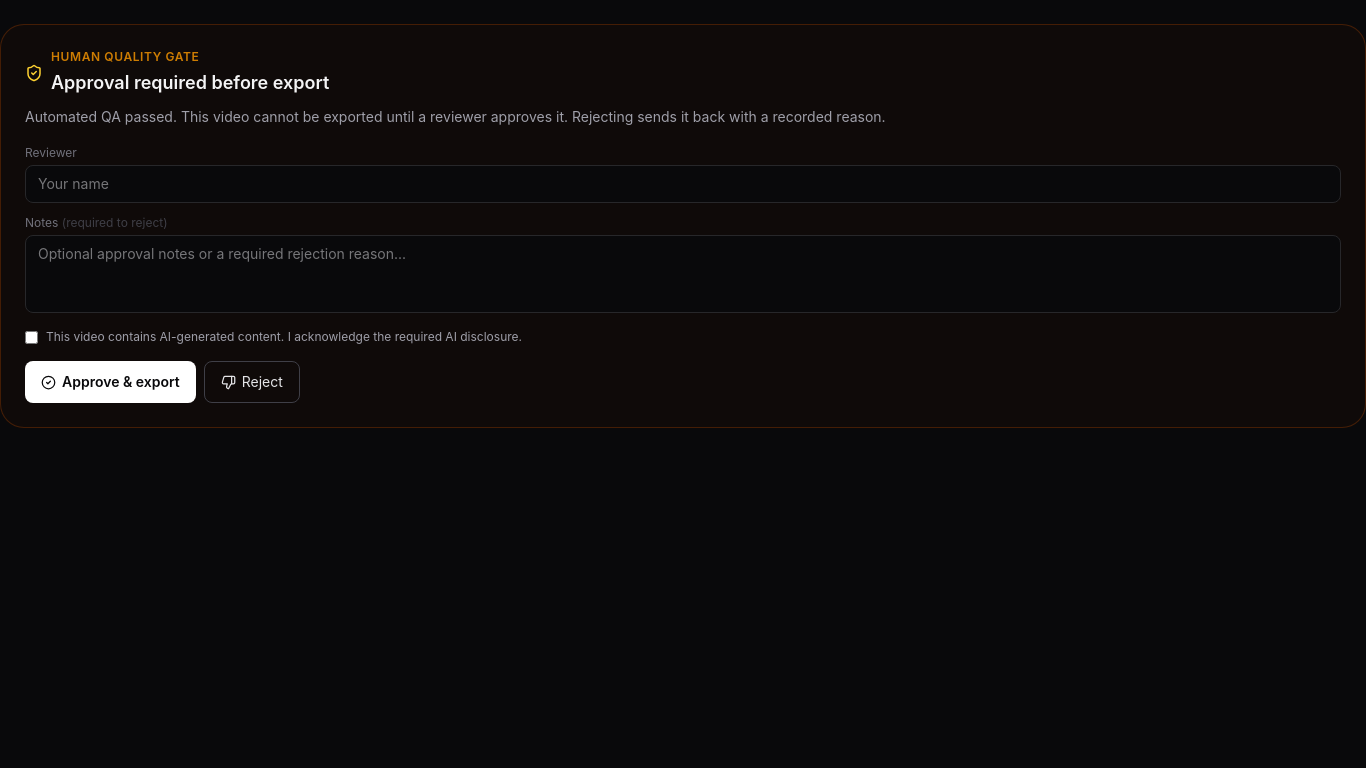
Scenario: ApprovalPanel › requires notes before rejecting
This screenshot has width=1366, height=768.
Type "Alex" into the field with placeholder "Your name" at (683, 184), box [25,165,1341,203]
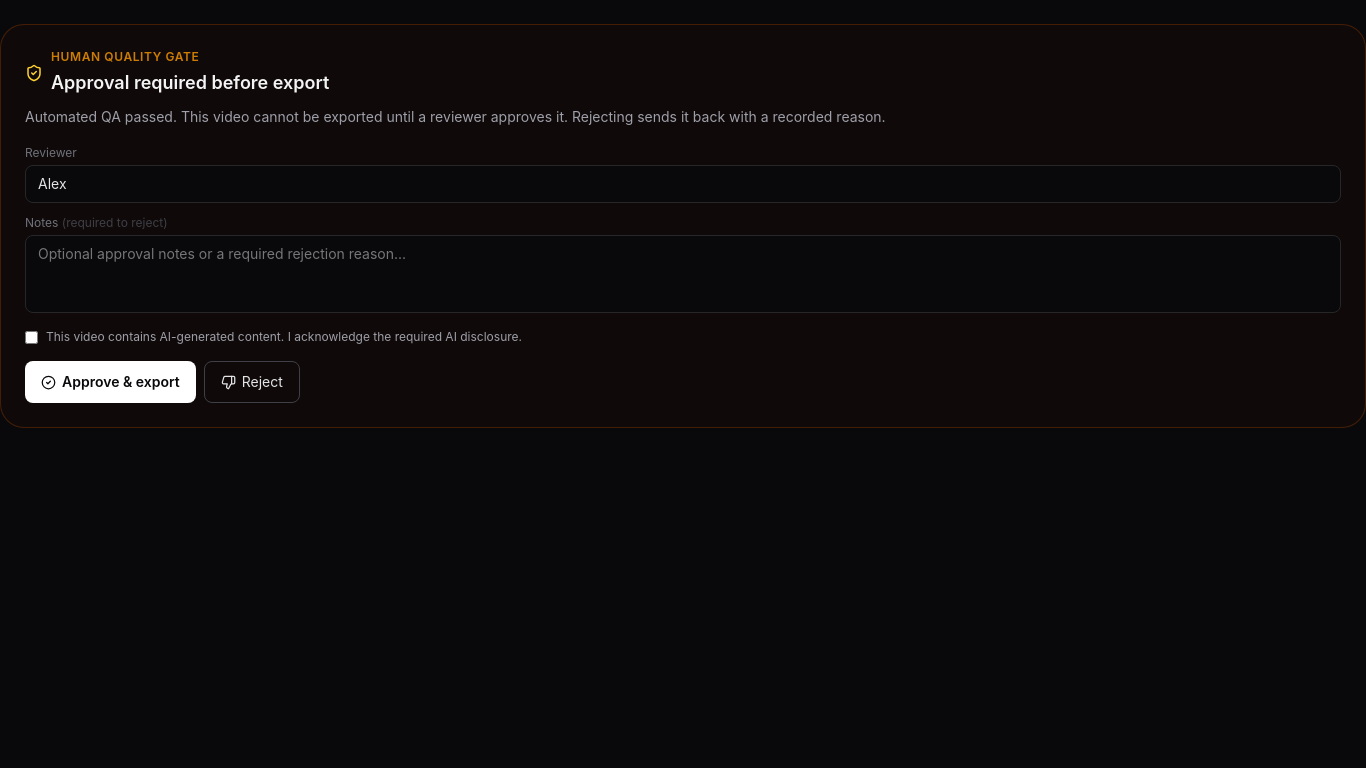
Click the button "Reject" at (252, 382), box [204,361,300,403]
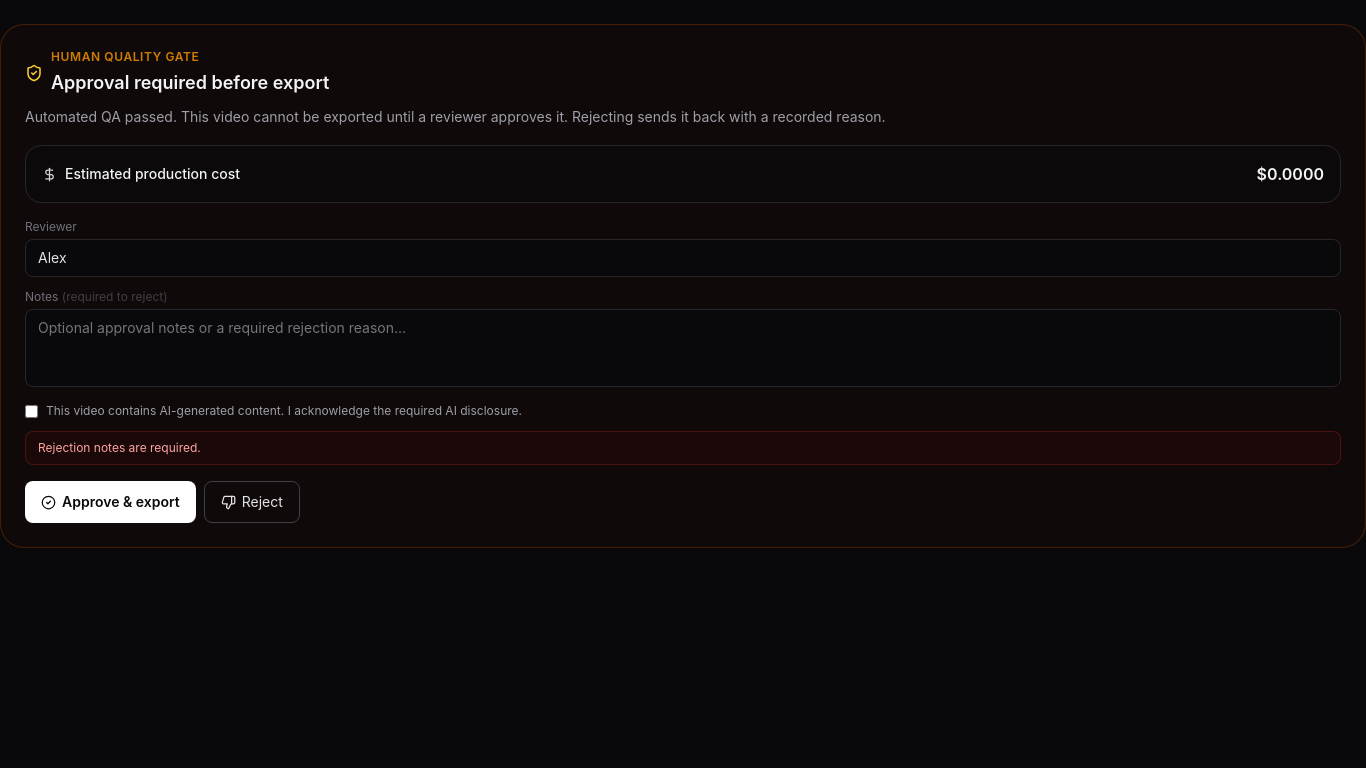
Expected: the text "Rejection notes are required." is shown, [25,431,1341,465]
